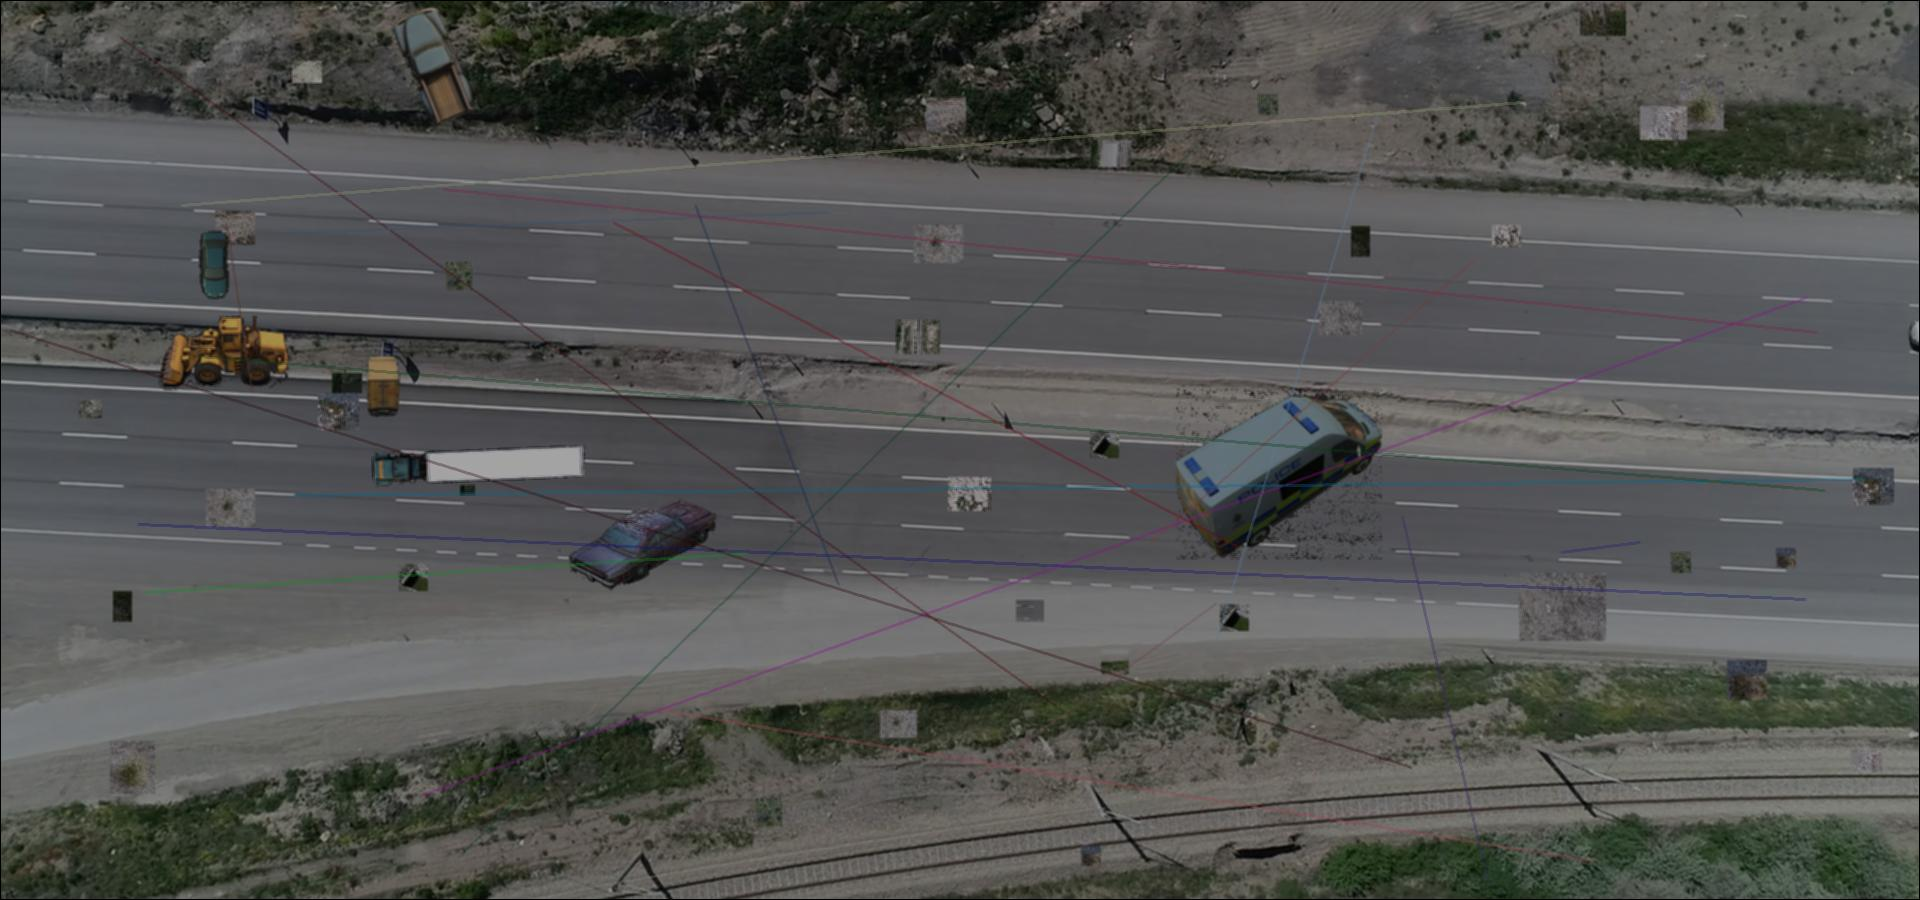arac: (1176, 389, 1382, 560), (566, 500, 720, 593), (391, 5, 478, 127), (156, 313, 295, 389), (369, 444, 589, 487), (366, 354, 402, 420), (200, 231, 229, 299)
